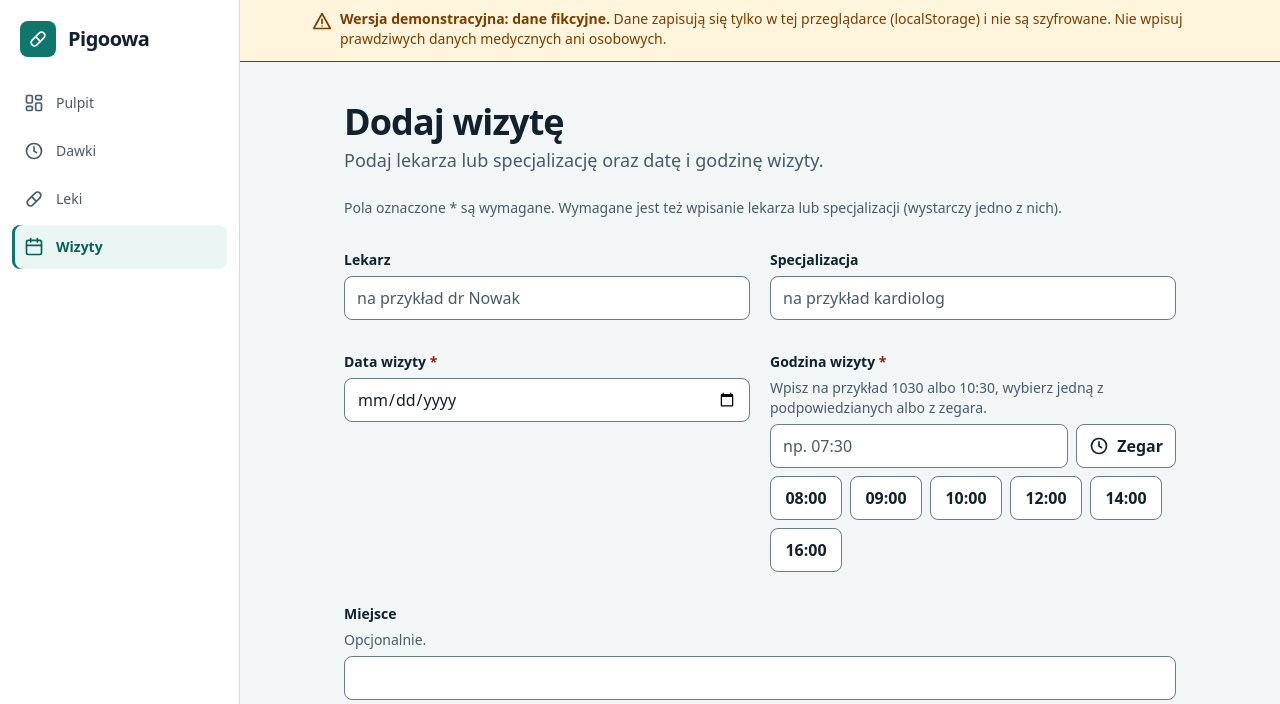
Test: add appointment: saving › takes the user to the Past tab when the date is already past, where it waits for confirmation
Type "dr Nowak" into the field labelled "Lekarz" at (547,298), box 344,276 -> 750,320
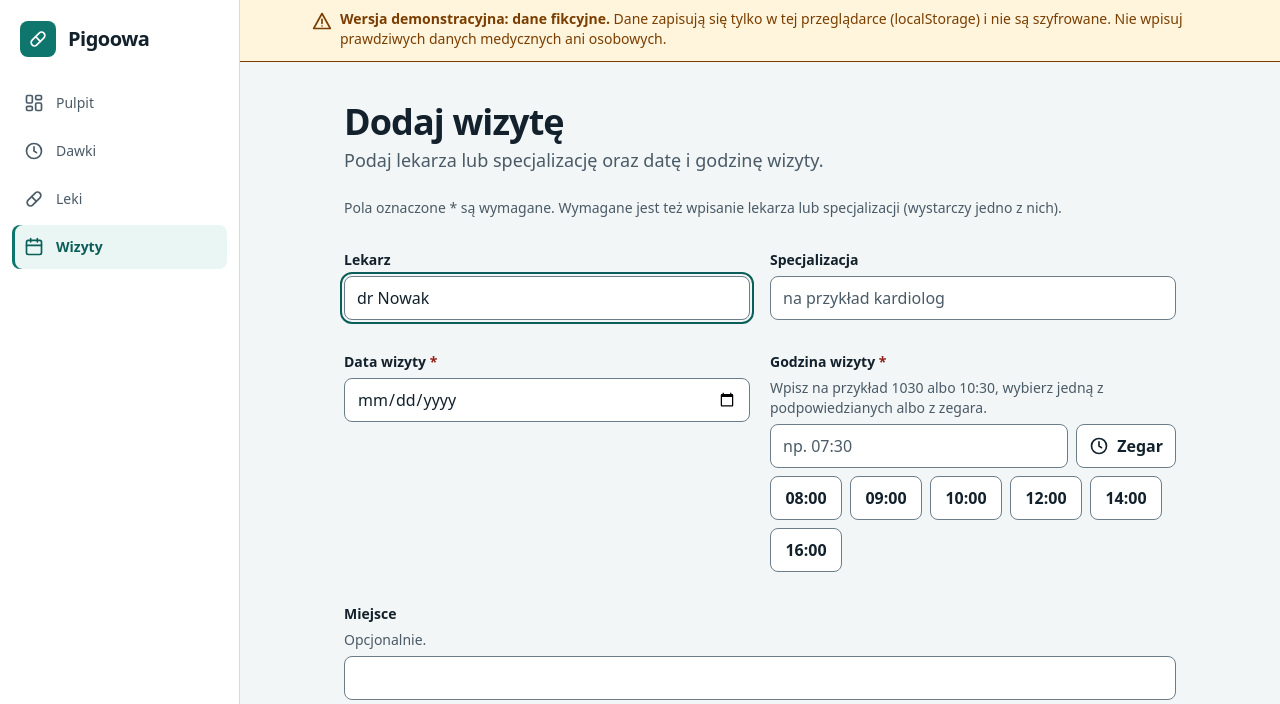
Type "2026-10-01" into the date field labelled "Data wizyty *" at (547,400), box 344,378 -> 750,422
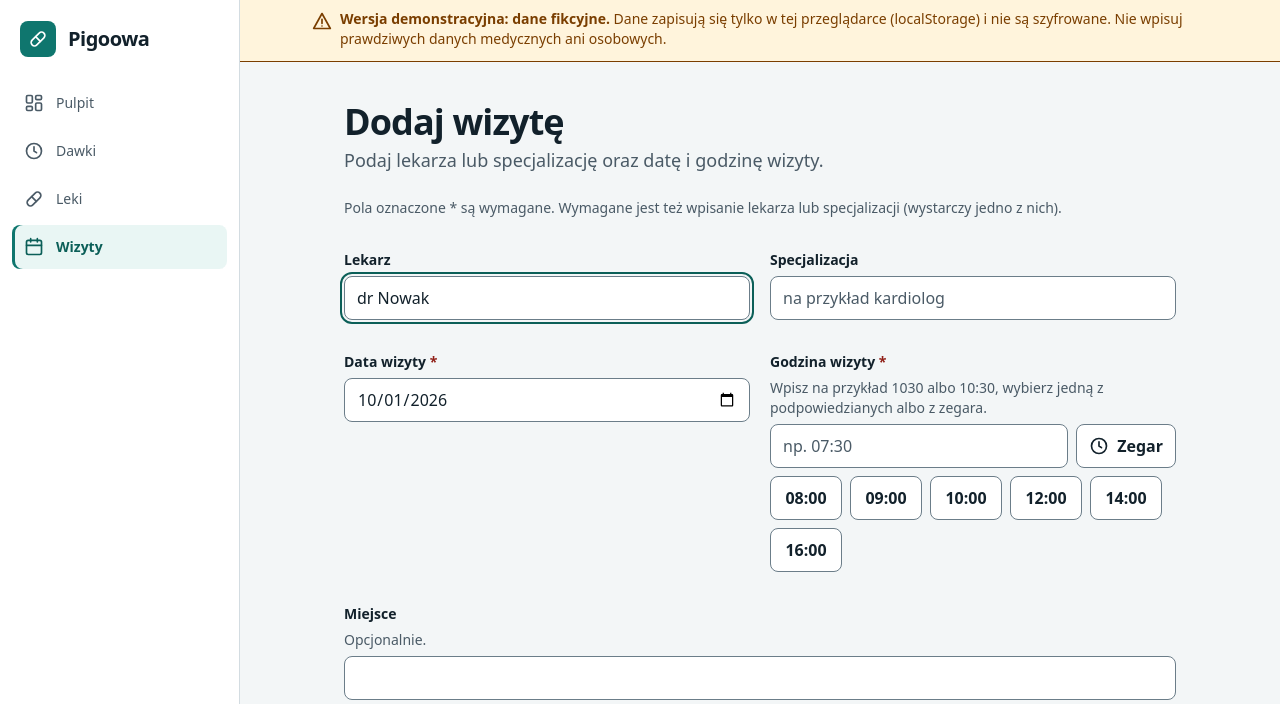
Type "09:00" into the field labelled "Godzina wizyty *" at (919,446), box 770,424 -> 1068,468
(page scrolled)
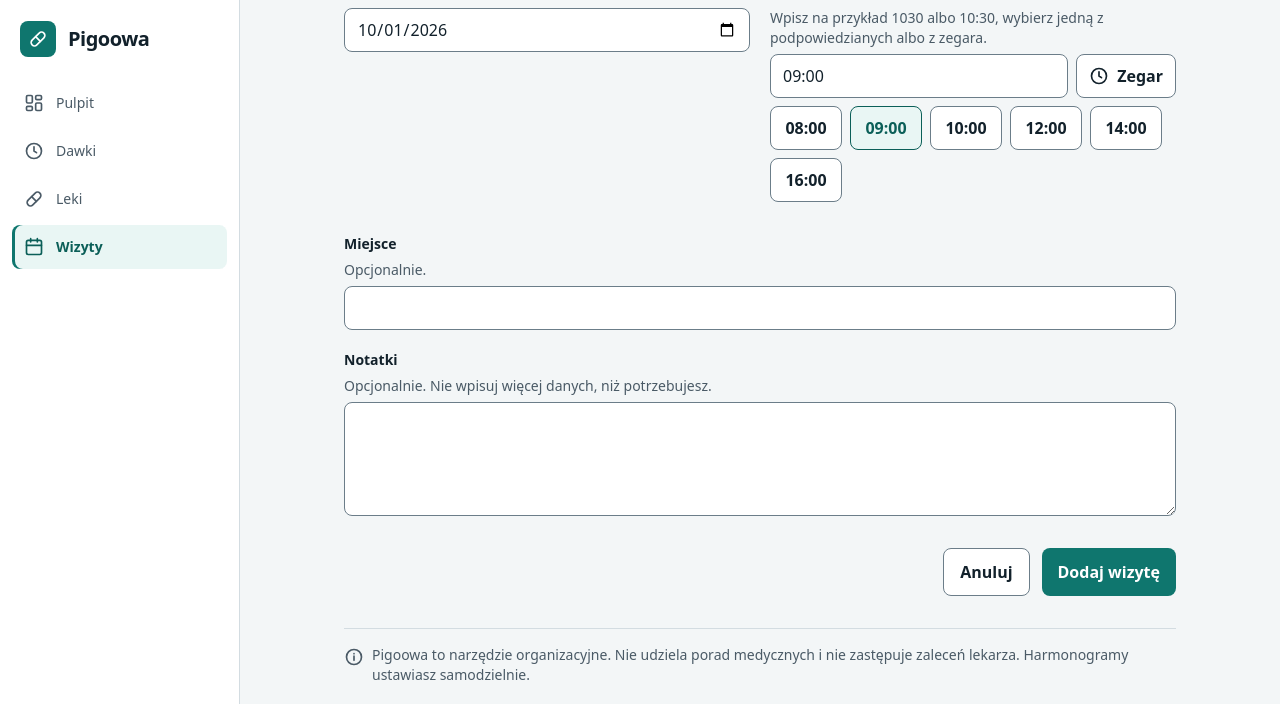
Click the button "Dodaj wizytę" at (1109,572), box 1042,548 -> 1176,596
(page scrolled)
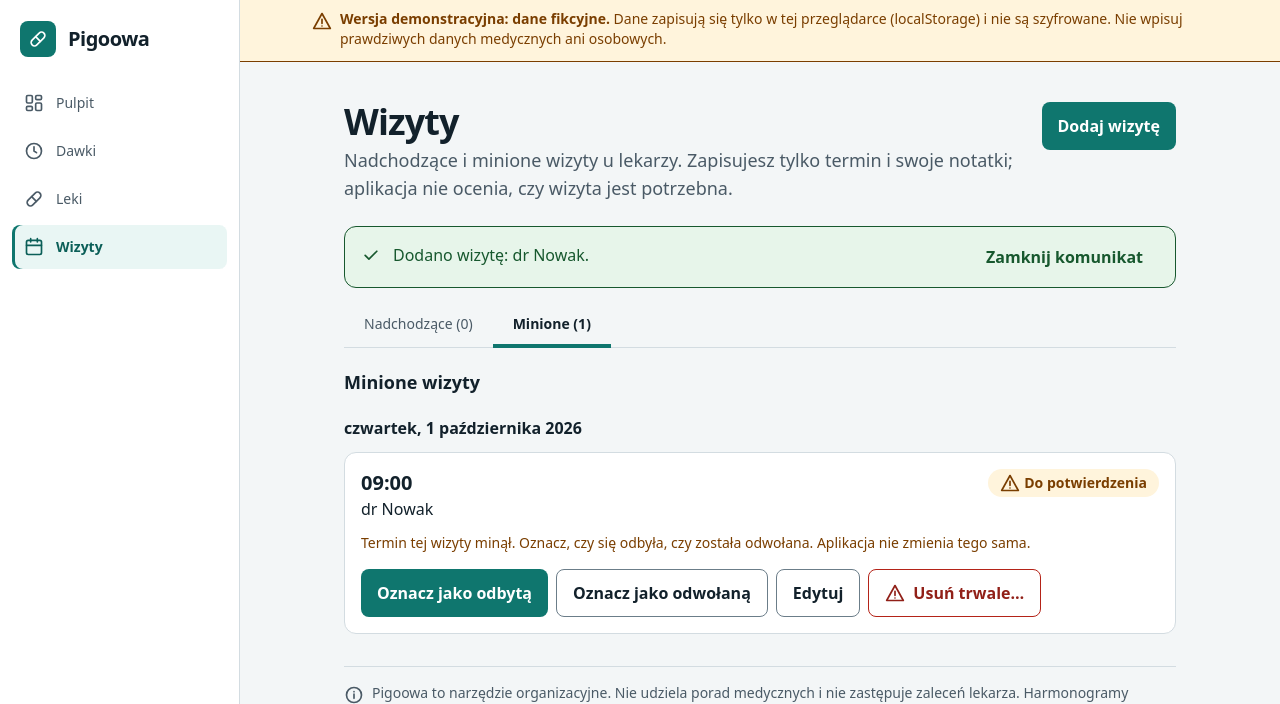
Check: the text "Do potwierdzenia" is shown, box 988,469 -> 1159,497
